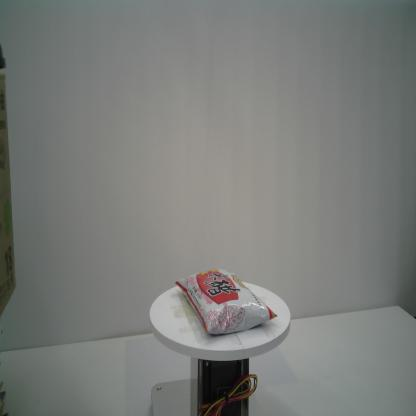Seasoner: (174, 266, 280, 338)
